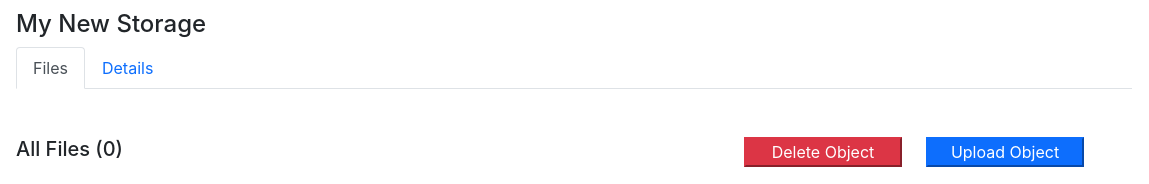
Scenario: Test Details tab
Click the tab "Details" at [128, 68], box [85,47,170,89]
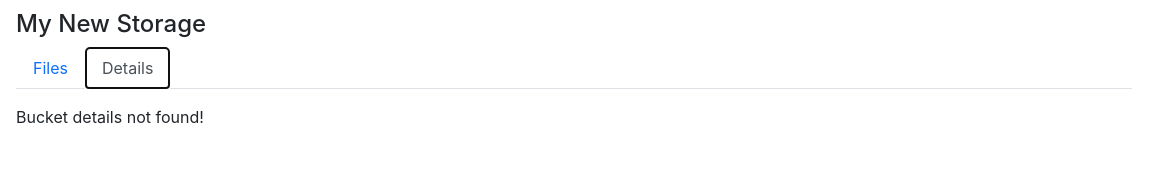
Expected: the text "Bucket details not found!" is shown, [16,107,204,127]
